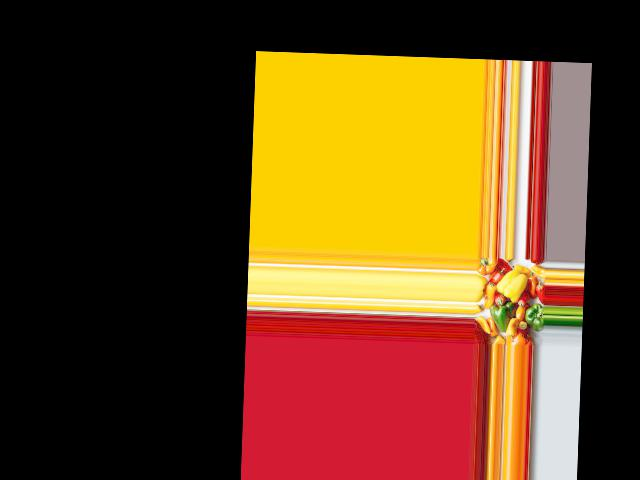bell_pepper: (533, 279, 546, 302)
